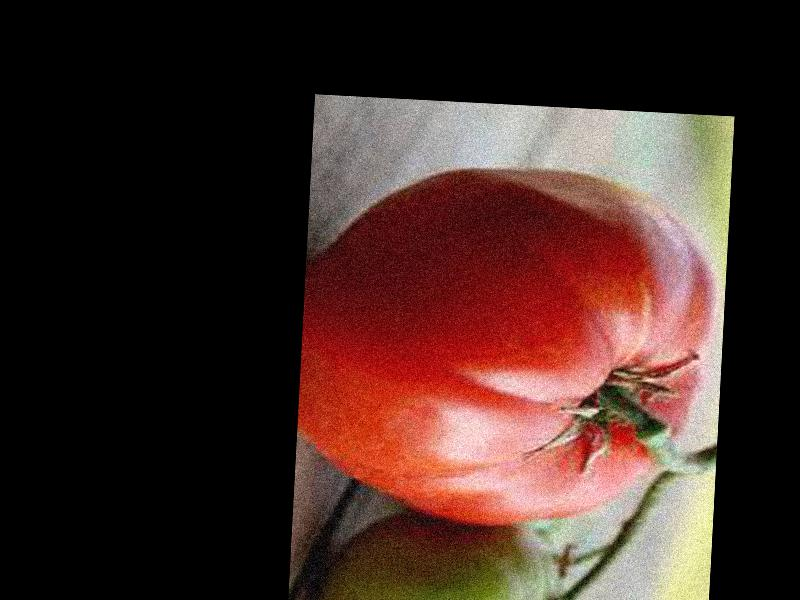Tomato: (292, 155, 723, 534)
